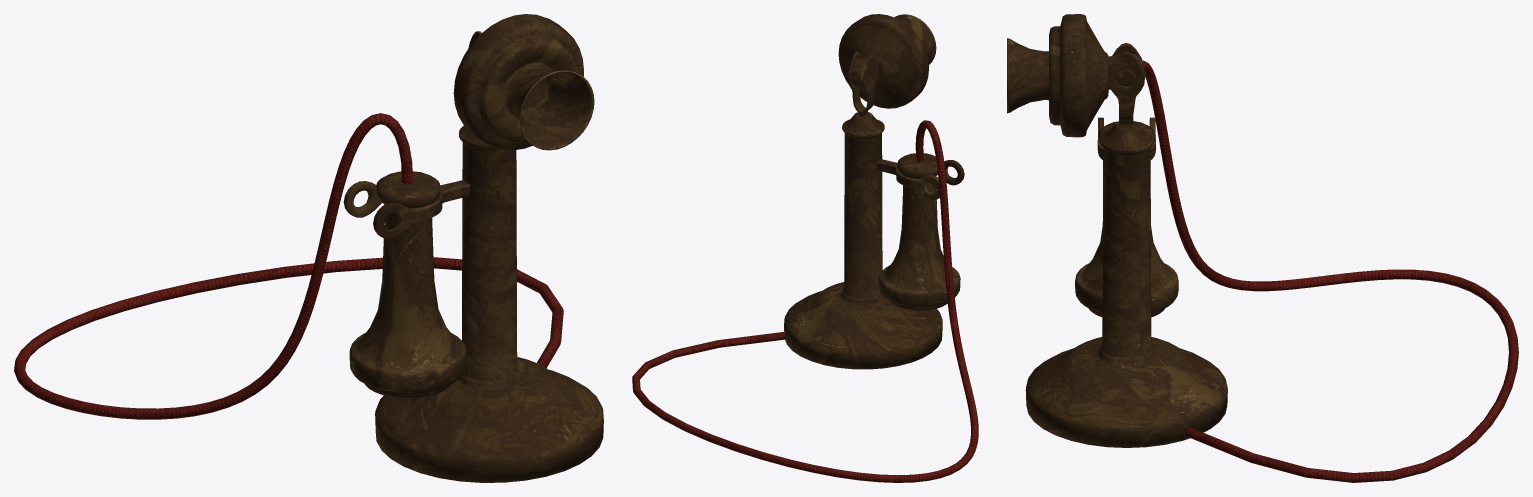
The picture shows the model from 3 angles, left to right: view 1: azimuth 30°, elevation 25°; view 2: azimuth 150°, elevation 25°; view 3: azimuth 270°, elevation 25°; orthographic projection. The views are drawn at different scales.
Visible parts, largest first — view 1: phone; view 2: phone; view 3: phone.
Part boxes in pixels (x1=…): phone: x1=14, y1=14, x2=603, y2=482; phone: x1=632, y1=14, x2=978, y2=482; phone: x1=1007, y1=14, x2=1518, y2=482.
Bounding box in the file's own units: 301 × 258 × 309.
1 material, 1 textured.
